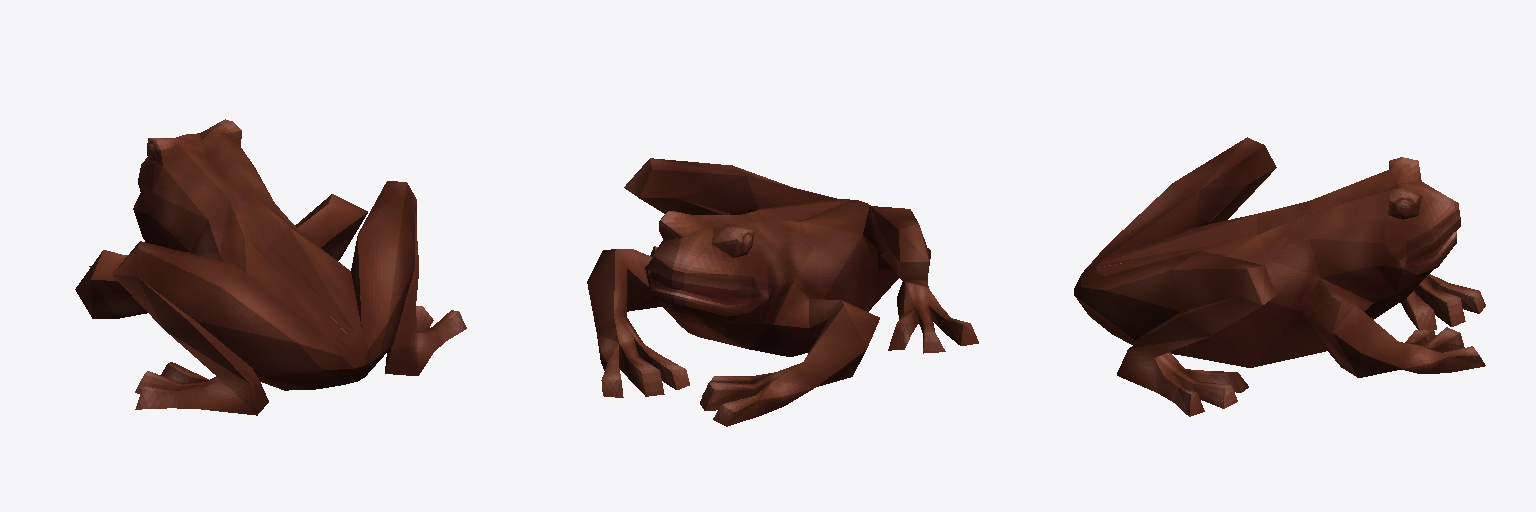
The picture shows the model from 3 angles: view 1: azimuth 30°, elevation 25°; view 2: azimuth 150°, elevation 25°; view 3: azimuth 270°, elevation 25°; orthographic projection.
Visible parts, largest first — view 1: material_0; view 2: material_0; view 3: material_0.
Part boxes in pixels (x1,y1,x2,y2): material_0: (75, 119, 466, 415); material_0: (587, 158, 978, 426); material_0: (1074, 137, 1485, 416).
Bounding box in the file's own units: 34.84 × 16.05 × 37.47.
Materials: 1 (1 with a texture image).